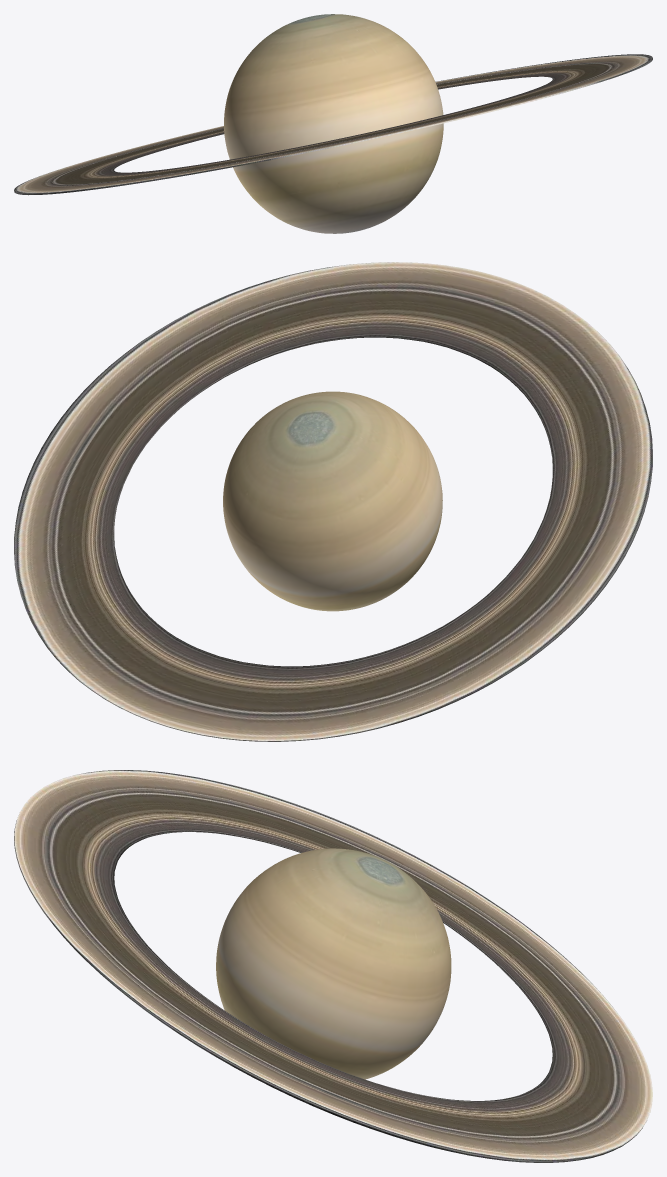
Rendered from saturn-transformed.glb.
The picture shows the model from 3 angles, top to bottom: view 1: azimuth 30°, elevation 25°; view 2: azimuth 150°, elevation 25°; view 3: azimuth 270°, elevation 25°; orthographic projection. The views are drawn at different scales.
Visible parts, largest first — view 1: Saturn_2; view 2: Saturn_2; view 3: Saturn_2.
Boxes of the visible parts, <box> form: Saturn_2: <box>14,14,652,233</box>; Saturn_2: <box>14,262,652,741</box>; Saturn_2: <box>14,770,652,1162</box>.
Bounding box in the file's own units: 3.32 × 1.36 × 3.04.
Materials: 2 (2 with a texture image).
